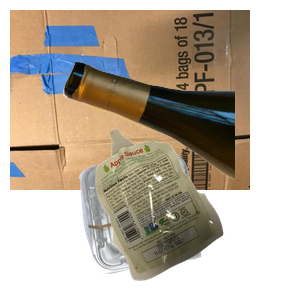cardboard: (10, 10, 250, 190)
glass: (60, 59, 300, 231)
plastic: (76, 151, 270, 300)
trash: (93, 126, 300, 300)
